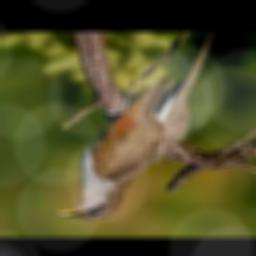Cuckoo: (52, 32, 216, 219)
